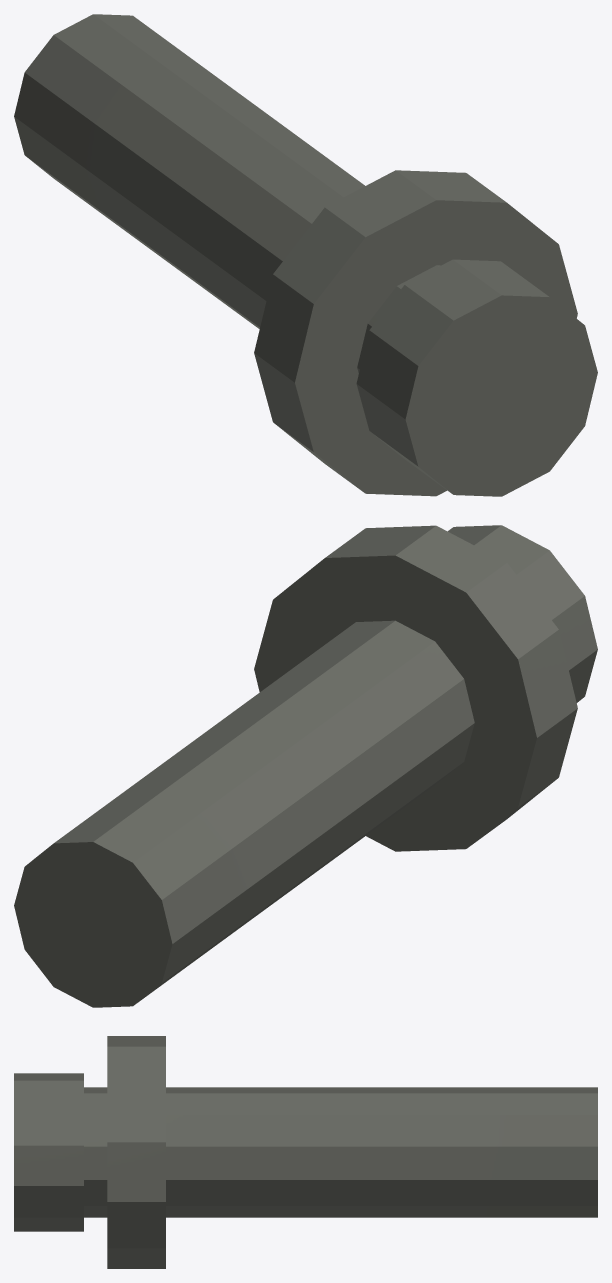
The model's file is WarrensC_CCS22_WheelAxleStub_Mars_SM.fbx.
3 renders of one model, top to bottom at view 1: azimuth 30°, elevation 25°; view 2: azimuth 150°, elevation 25°; view 3: azimuth 270°, elevation 25°, orthographic. The views are drawn at different scales.
Visible parts, largest first — view 1: WarrensC_CCS22_WheelAxleStub_Mars_SM.001; view 2: WarrensC_CCS22_WheelAxleStub_Mars_SM.001; view 3: WarrensC_CCS22_WheelAxleStub_Mars_SM.001.
Boxes of the visible parts, bbox=[...] form: WarrensC_CCS22_WheelAxleStub_Mars_SM.001: bbox=[14, 14, 597, 496]; WarrensC_CCS22_WheelAxleStub_Mars_SM.001: bbox=[14, 525, 597, 1007]; WarrensC_CCS22_WheelAxleStub_Mars_SM.001: bbox=[14, 1036, 597, 1268].
Size of the model in its own units: 12 by 30 by 12.
